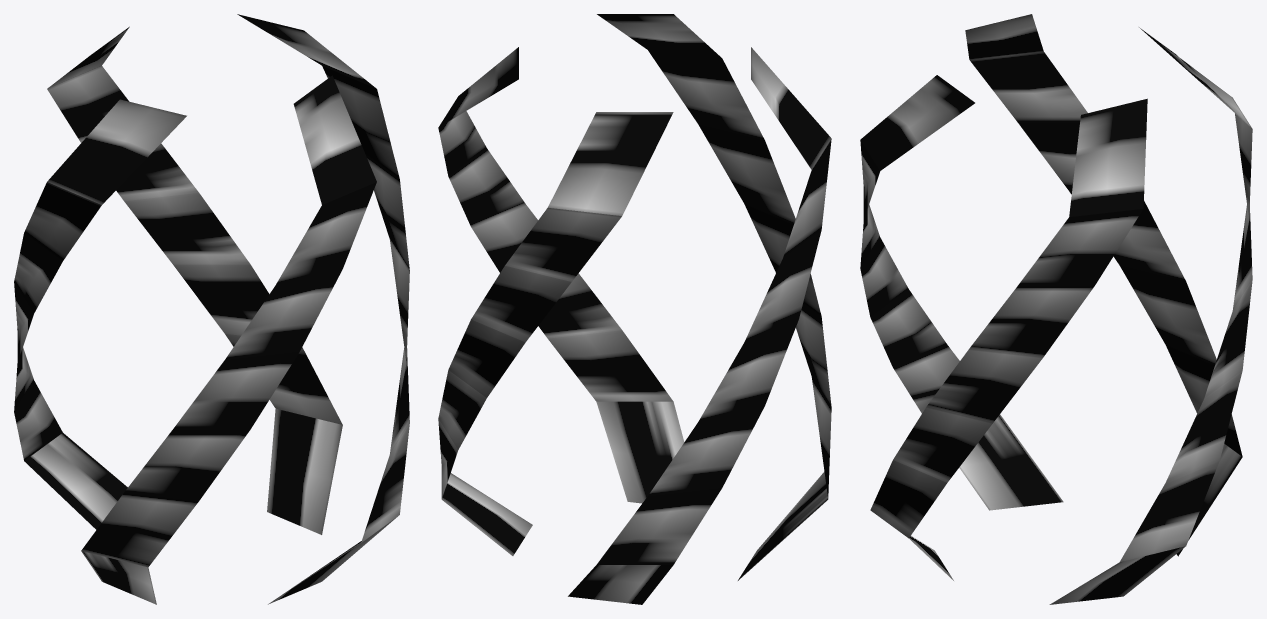
File: wisps.obj
3 renders of one model, left to right at view 1: azimuth 30°, elevation 25°; view 2: azimuth 150°, elevation 25°; view 3: azimuth 270°, elevation 25°, orthographic.
Parts seen in each view (by area): view 1: Cube.001_Cube.002; view 2: Cube.001_Cube.002; view 3: Cube.001_Cube.002.
Boxes of the visible parts, <box> form: Cube.001_Cube.002: <box>14,14,409,604</box>; Cube.001_Cube.002: <box>438,14,831,604</box>; Cube.001_Cube.002: <box>860,14,1252,604</box>.
Size of the model in its own units: 0.318 by 0.4375 by 0.318.
